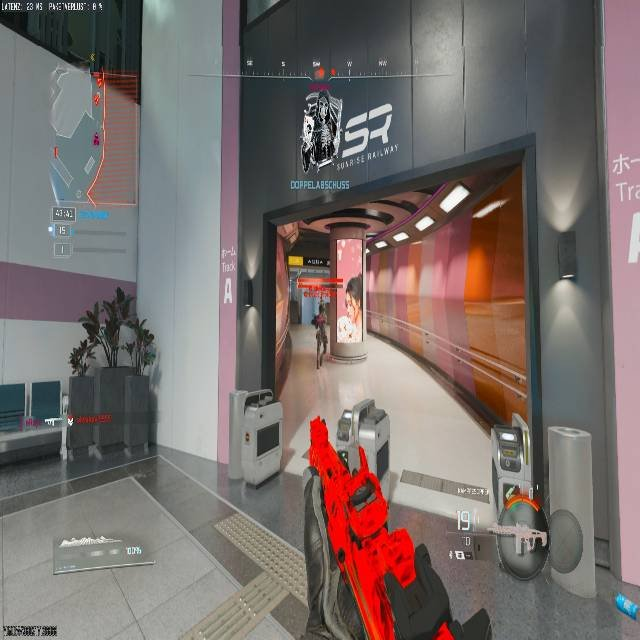player: (69, 287, 160, 384), (311, 311, 330, 360)
